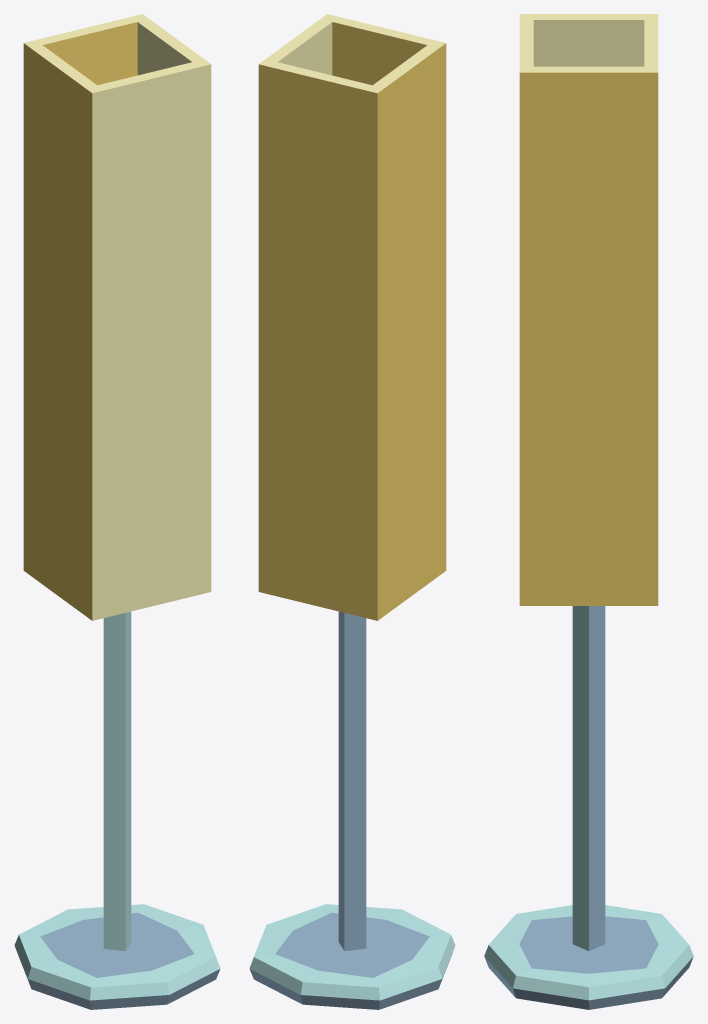
Rendered from Squared Floor Lamp.fbx.
3 views of the same model, side by side, from view 1: azimuth 30°, elevation 25°; view 2: azimuth 150°, elevation 25°; view 3: azimuth 270°, elevation 25° (orthographic).
Parts seen in each view (by area): view 1: Squared Floor Lamp; view 2: Squared Floor Lamp; view 3: Squared Floor Lamp.
Part boxes in pixels (x1,y1,x2,y2): Squared Floor Lamp: [14, 14, 220, 1009]; Squared Floor Lamp: [249, 14, 455, 1009]; Squared Floor Lamp: [484, 14, 693, 1009].
Size of the model in its own units: 78.52 by 382 by 78.52.
